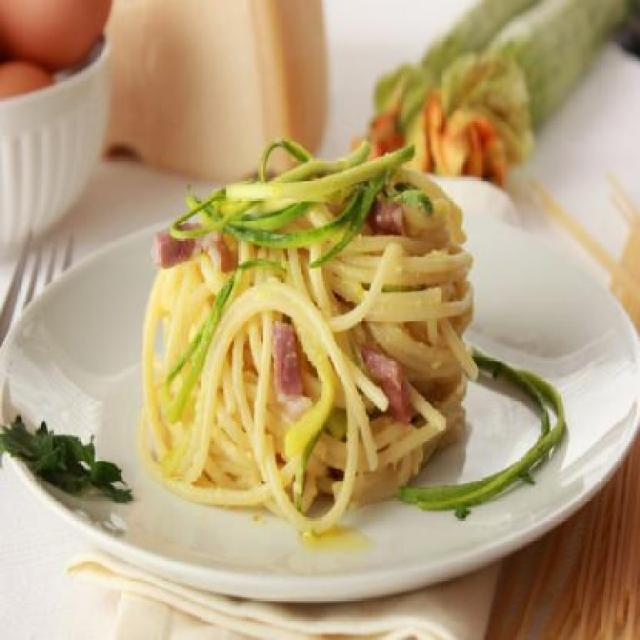Pasta with carbonara sauce: (114, 102, 488, 544)
